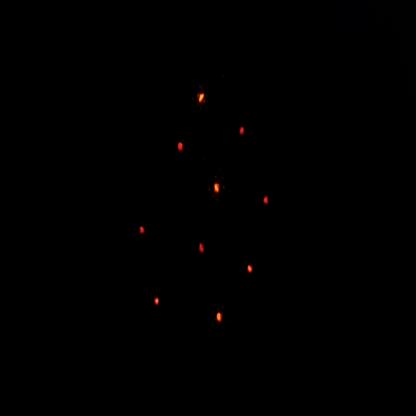PET: (130, 211, 154, 251), (191, 230, 214, 270), (258, 186, 276, 220), (171, 133, 189, 163), (234, 118, 253, 145)
PVC: (204, 164, 232, 211), (204, 299, 233, 338), (191, 81, 213, 117), (242, 254, 260, 288), (152, 289, 168, 318)
